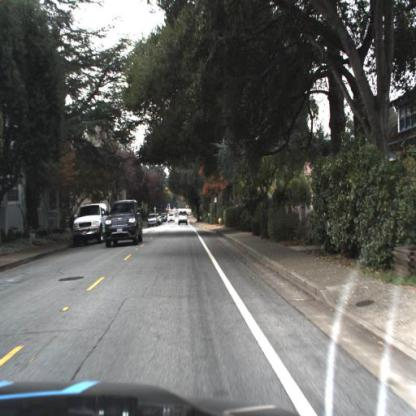car: (104, 200, 144, 249), (72, 202, 110, 246), (177, 207, 191, 230)
